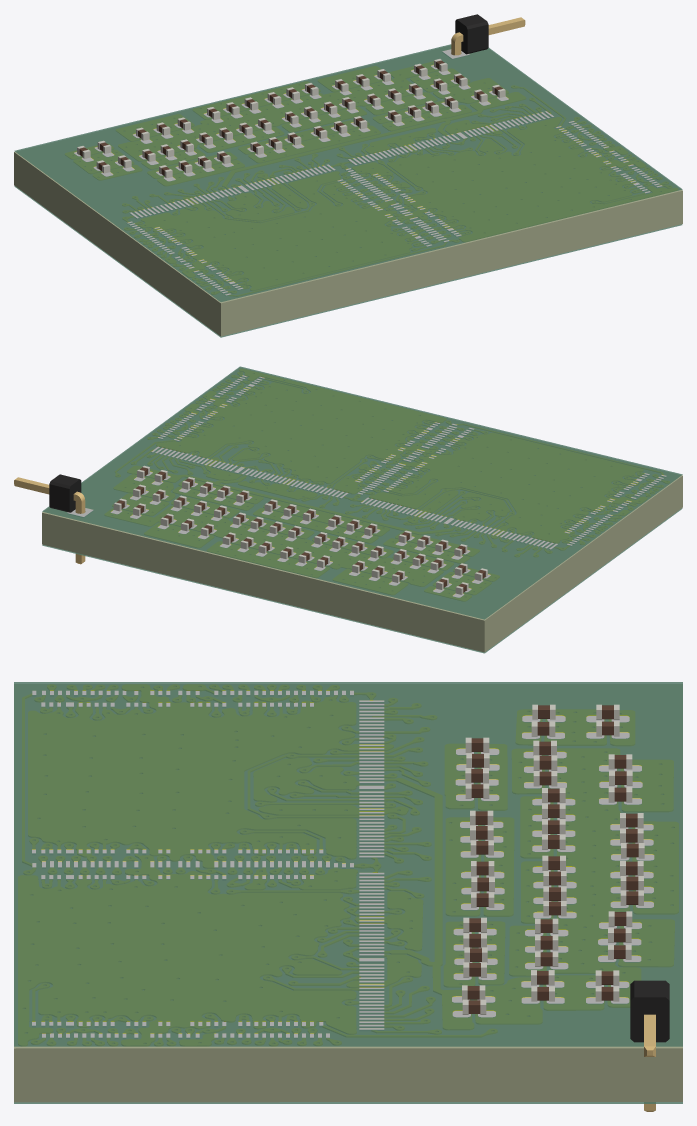
The model's file is ASIC_PCB5_Interactive.glb.
3 renders of one model, top to bottom at view 1: azimuth 30°, elevation 25°; view 2: azimuth 150°, elevation 25°; view 3: azimuth 270°, elevation 25°, orthographic. The views are drawn at different scales.
Visible parts, largest first — view 1: ASIC_PCB5_Source_Geometry; view 2: ASIC_PCB5_Source_Geometry; view 3: ASIC_PCB5_Source_Geometry.
Boxes of the visible parts, x1,y1,x2,y2 form: ASIC_PCB5_Source_Geometry: (14,14,682,337); ASIC_PCB5_Source_Geometry: (14,366,682,653); ASIC_PCB5_Source_Geometry: (14,682,682,1111).
Bounding box in the file's own units: 0.0238 × 0.00377 × 0.017.
